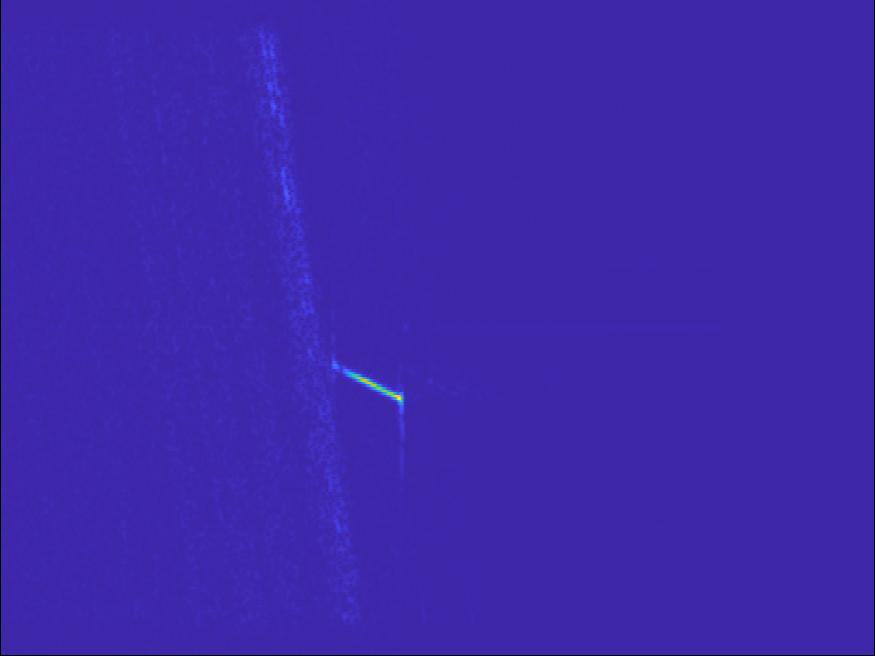Interference: (266, 198, 398, 270), (736, 308, 821, 356)
